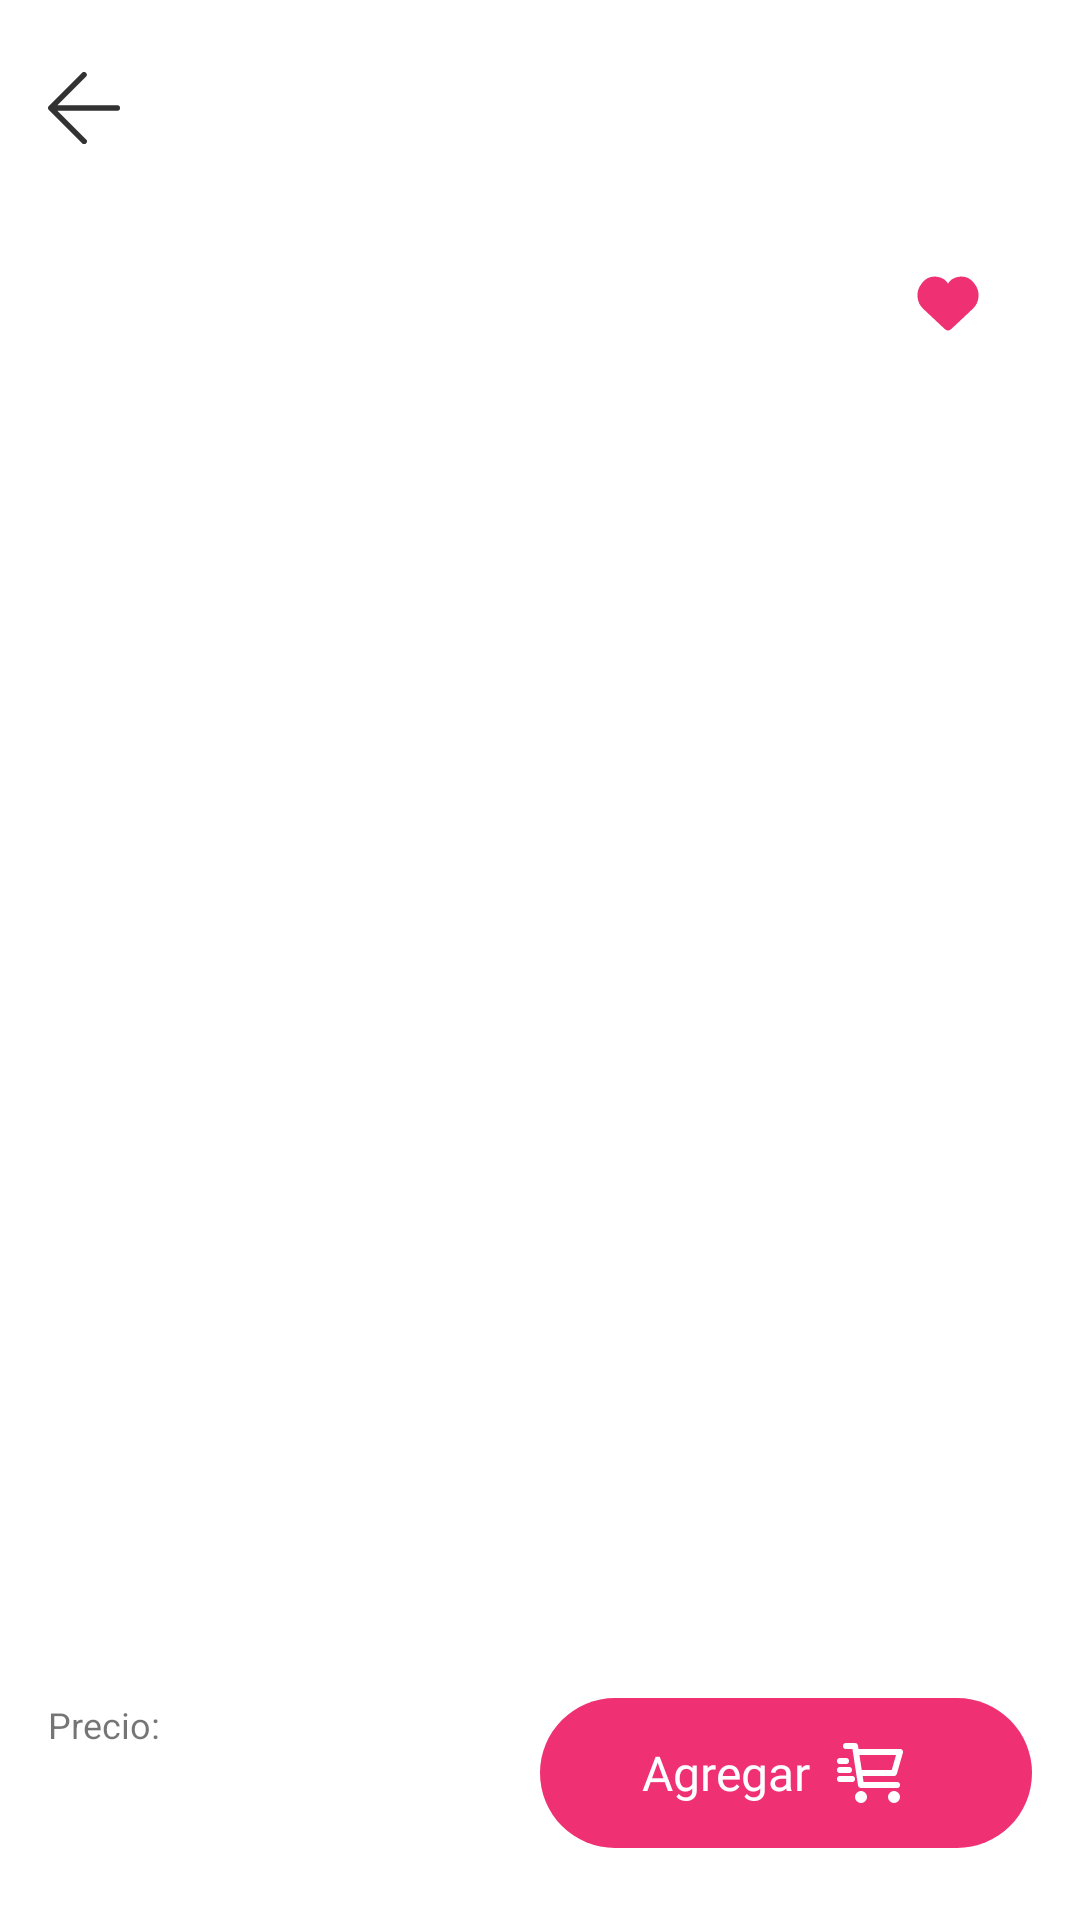

Screen size 1080x1920. Icon name, then its box in pixels as [x1,y1,x2,y2]:
favorite: [917,276,979,331]
Retroceso: [48,72,120,144]
